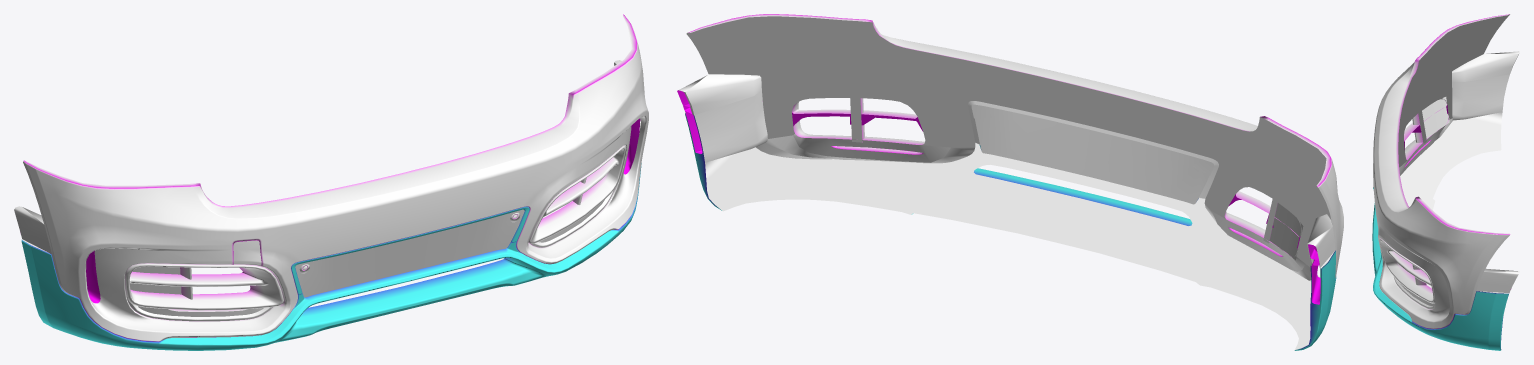
Rendered from Car_Mini_CountrymanJCW_2017_BumperF_SetA_AltF.fbx.
3 renders of one model, left to right at view 1: azimuth 30°, elevation 25°; view 2: azimuth 150°, elevation 25°; view 3: azimuth 270°, elevation 25°, orthographic. The views are drawn at different scales.
Visible parts, largest first — view 1: BumperF 6; view 2: BumperF 6; view 3: BumperF 6.
Boxes of the visible parts, x1=… form: BumperF 6: x1=14, y1=14, x2=648, y2=350; BumperF 6: x1=677, y1=14, x2=1343, y2=350; BumperF 6: x1=1372, y1=14, x2=1519, y2=350.
Size of the model in its own units: 1.76 by 0.4741 by 0.4913.
